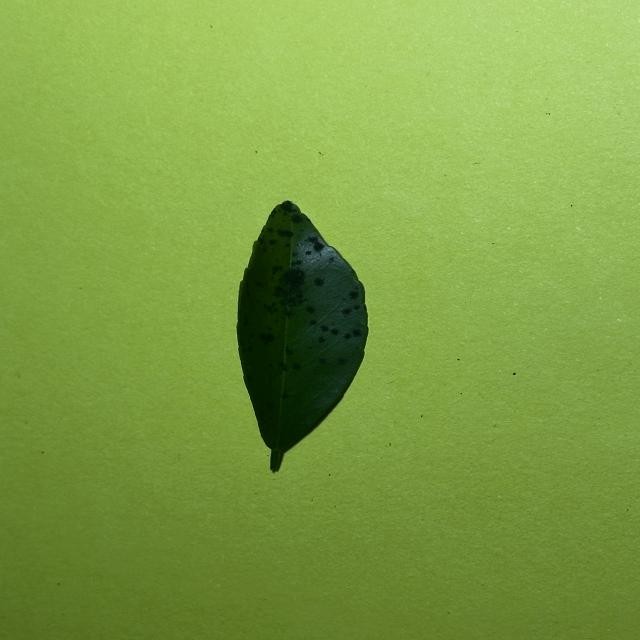sooty_mold: (237, 201, 368, 470)
